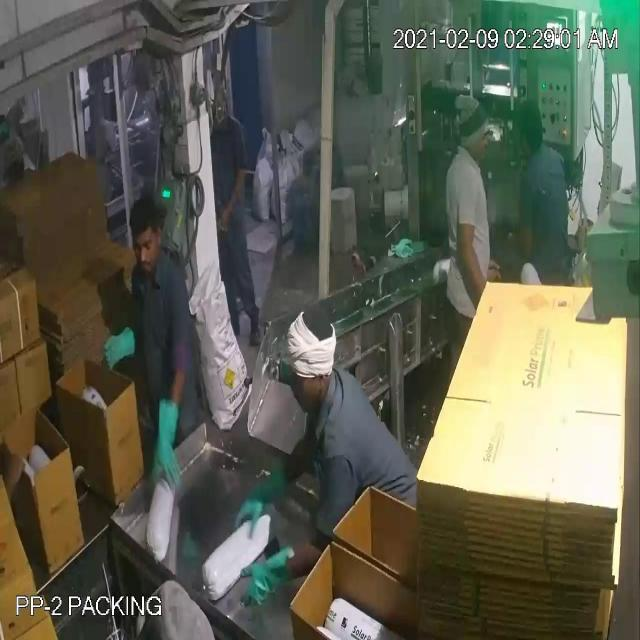Gloves: (13, 54, 474, 578)
